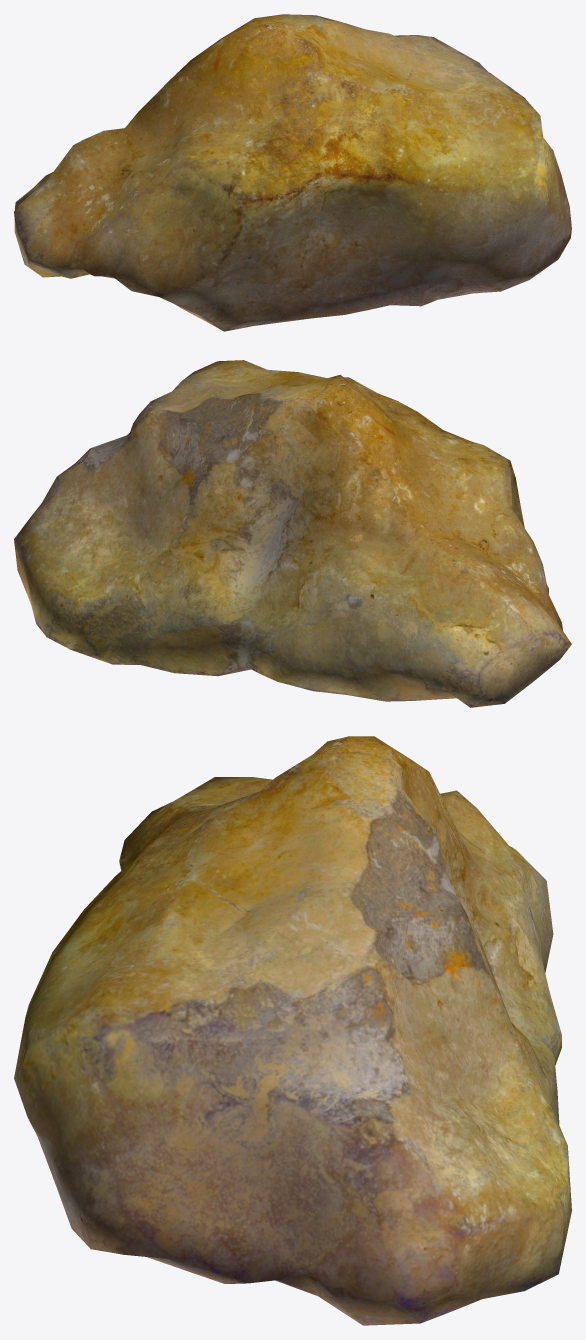
Rendered from low_poly_rock.glb.
3 views of the same model, one above another, from view 1: azimuth 30°, elevation 25°; view 2: azimuth 150°, elevation 25°; view 3: azimuth 270°, elevation 25° (orthographic). The views are drawn at different scales.
Visible parts, largest first — view 1: rock; view 2: rock; view 3: rock.
Part boxes in pixels (x1,y1,x2,y2): rock: (14, 14, 571, 331); rock: (14, 360, 571, 707); rock: (14, 736, 571, 1325).
Size of the model in its own units: 2.67 by 1.3 by 1.63.
Materials: 1 (1 with a texture image).
